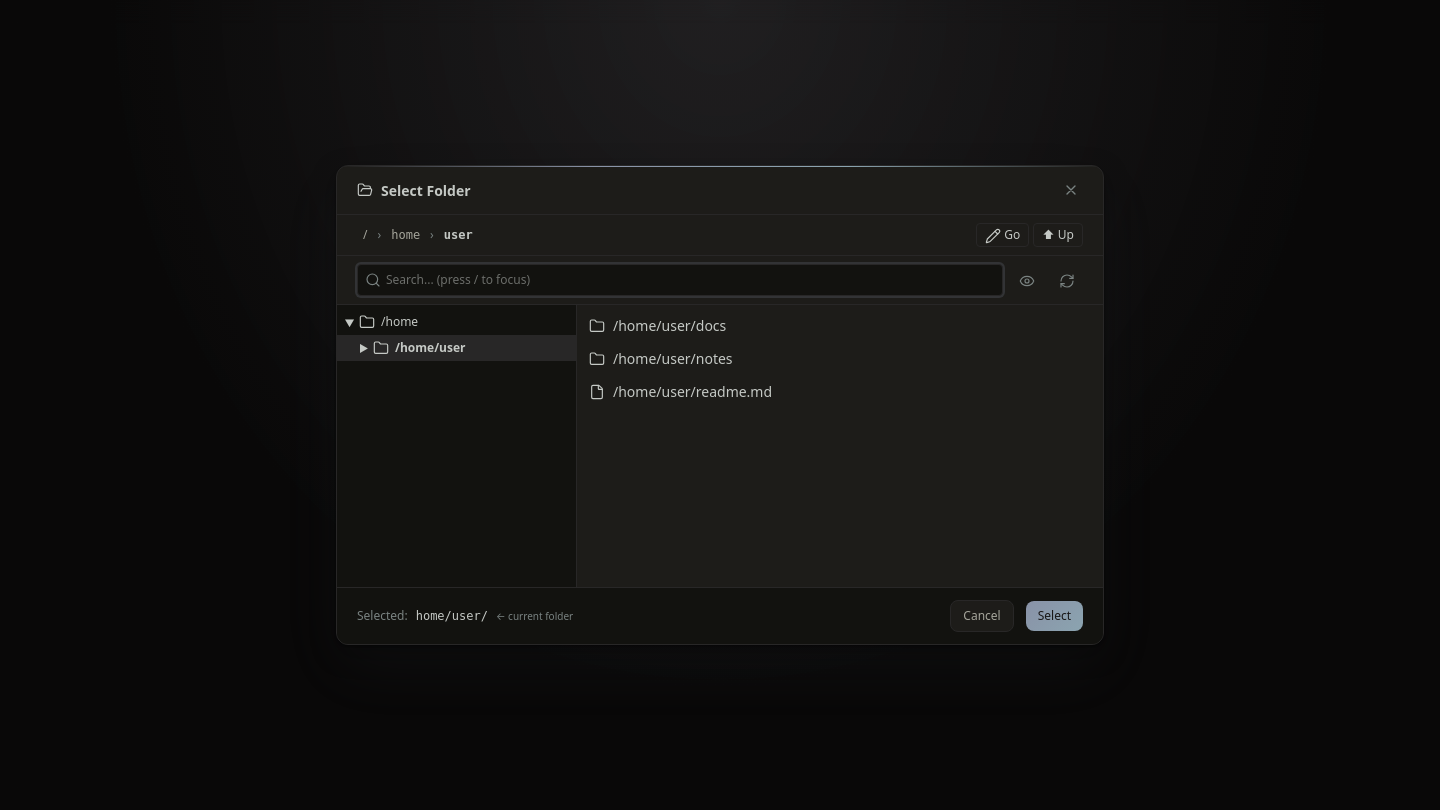
FilePickerDialog — address bar (type a path) › pressing Escape reverts the path input and stays on the current path
Click the button with test id "file-picker-path-edit".
click(1003, 235)  # box [976,223,1029,247]
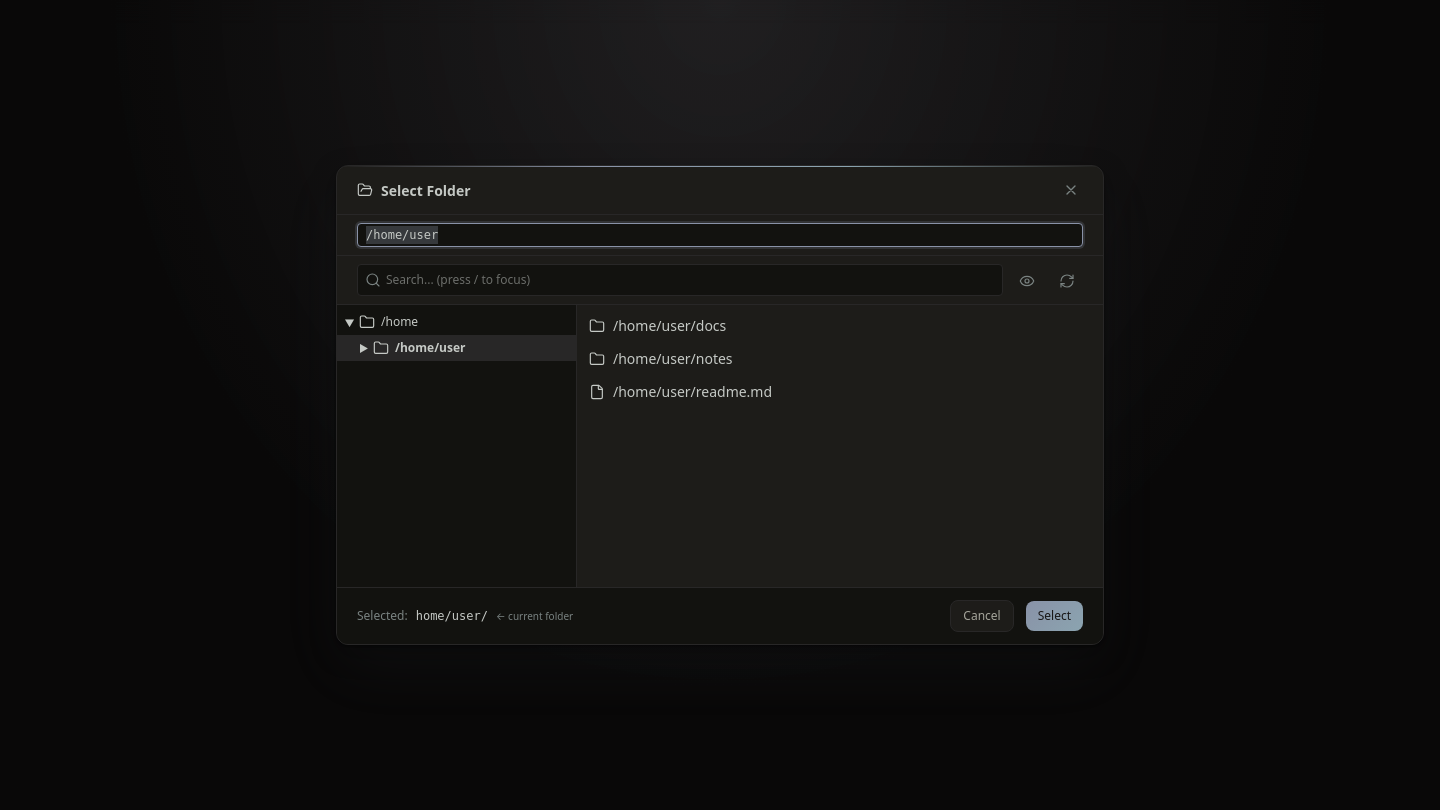
Replace the text in the field with test id "file-picker-path-input" with "/home/user/notes" at (720, 235), box [357,223,1083,247]
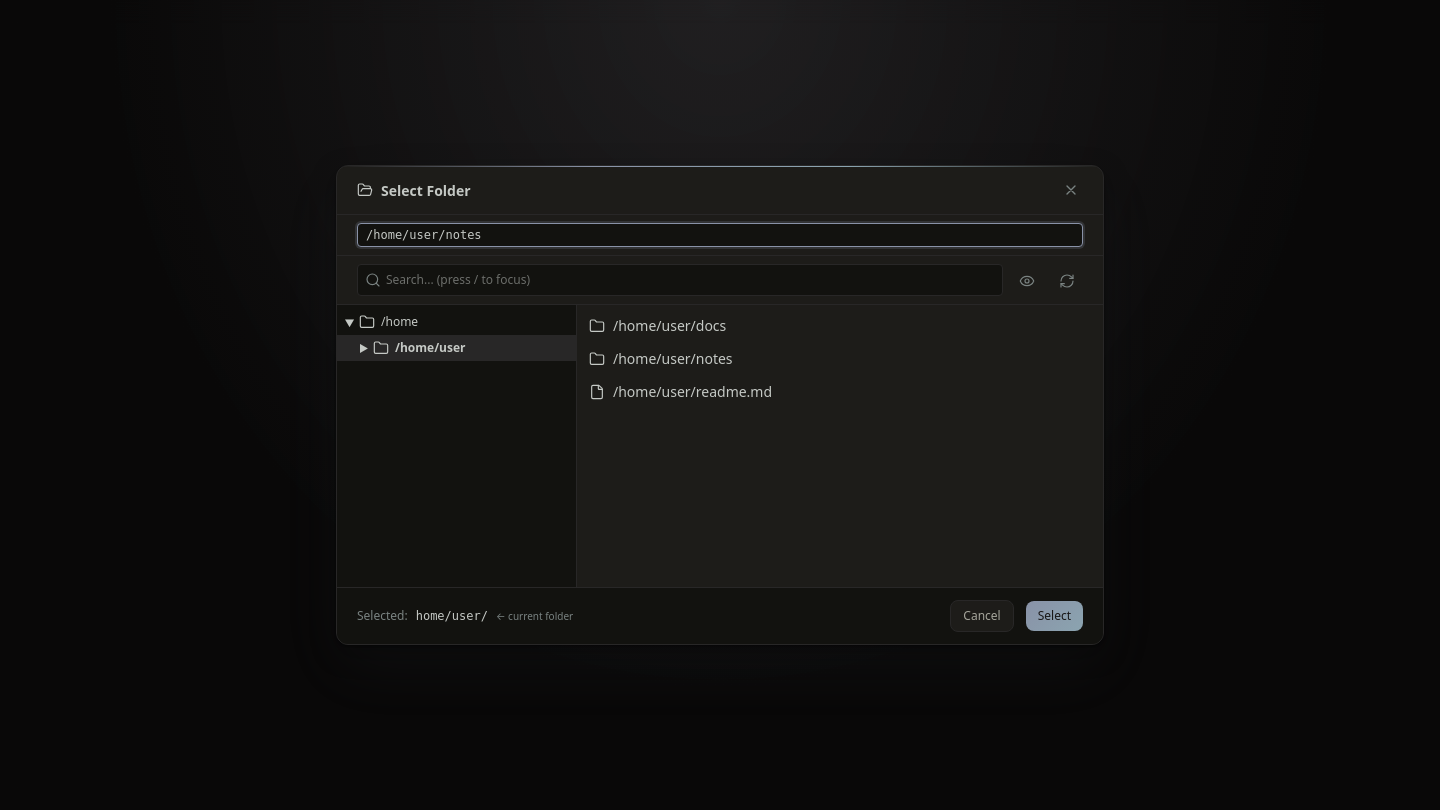
Press Escape in the field with test id "file-picker-path-input", box [357,223,1083,247]
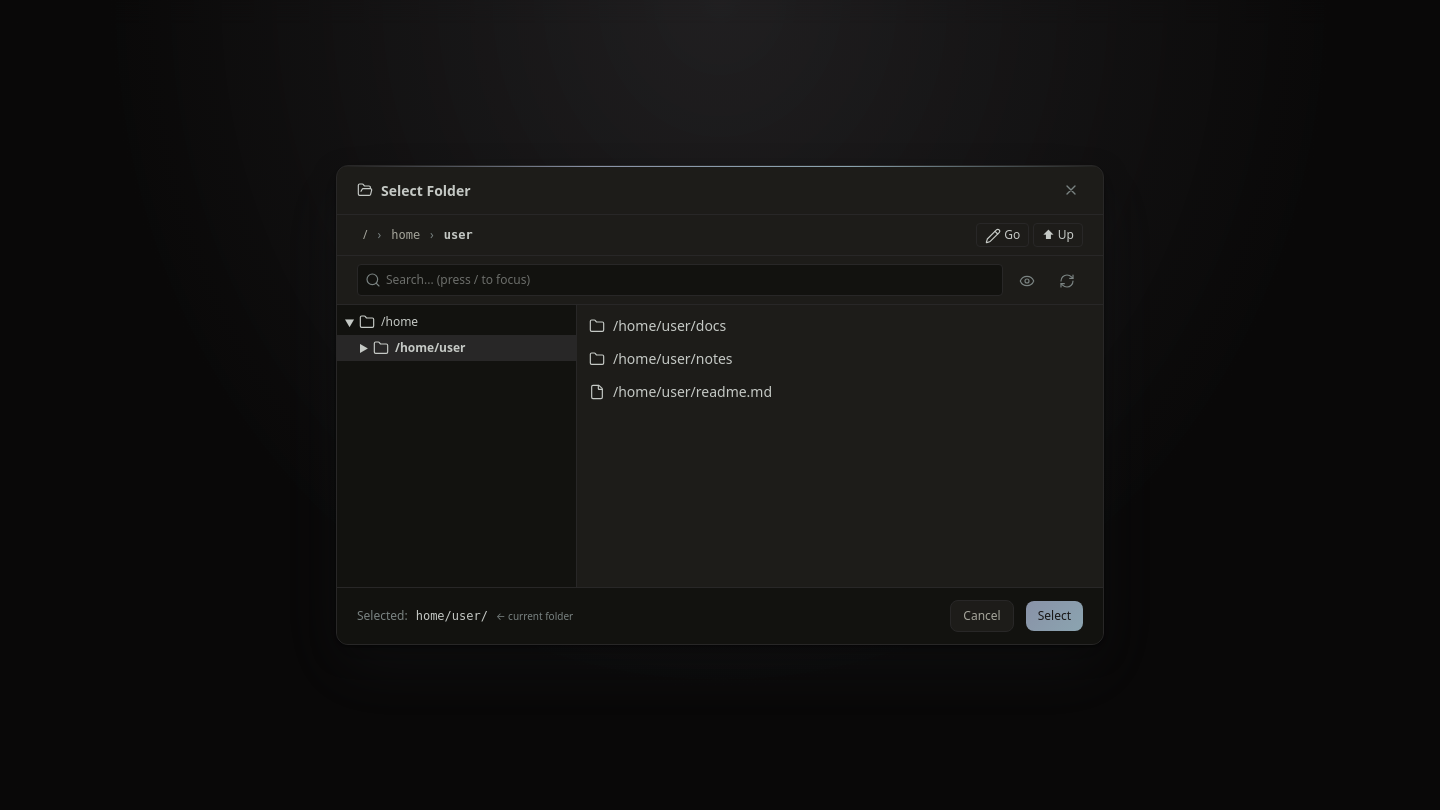
Now the field with test id "file-picker-path-input" is gone
Now the button with test id "file-picker-crumb-0" reads "home", box [385,224,426,246]
Now the button with test id "file-picker-crumb-1" reads "user", box [438,224,479,246]
